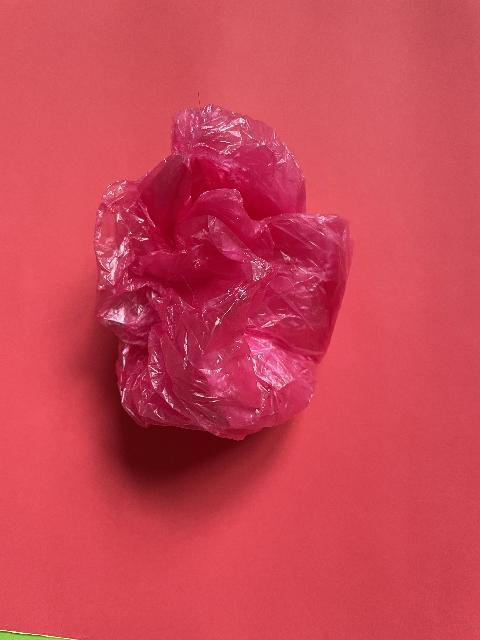plasticbag: (91, 100, 355, 446)
